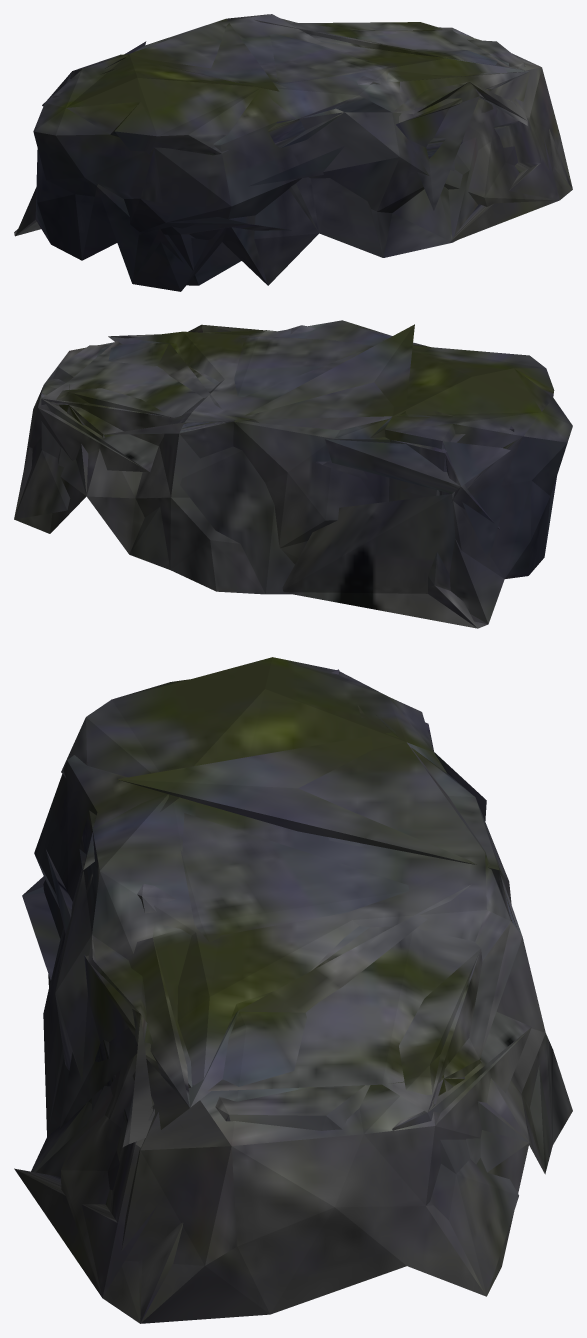
Rendered from rock_cliff_xl_a_lod1.glb.
The picture shows the model from 3 angles, top to bottom: view 1: azimuth 30°, elevation 25°; view 2: azimuth 150°, elevation 25°; view 3: azimuth 270°, elevation 25°; orthographic projection. The views are drawn at different scales.
Parts seen in each view (by area): view 1: rock_cliff_xl_a_lod1; view 2: rock_cliff_xl_a_lod1; view 3: rock_cliff_xl_a_lod1.
Boxes of the visible parts, x1,y1,x2,y2 form: rock_cliff_xl_a_lod1: (14,14,572,291); rock_cliff_xl_a_lod1: (14,320,572,628); rock_cliff_xl_a_lod1: (14,657,572,1323).
Bounding box in the file's own units: 3.81 × 1.31 × 2.17.
1 material, 1 textured.
